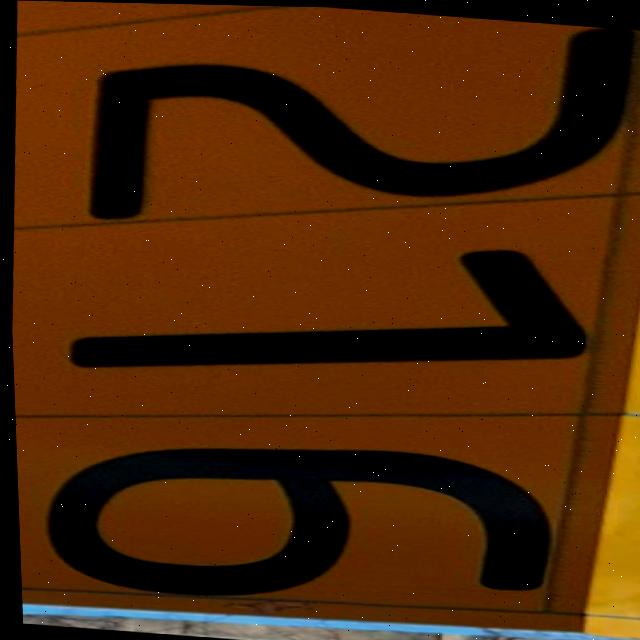character: (68, 2, 640, 265), (20, 421, 569, 629), (51, 215, 605, 409)
